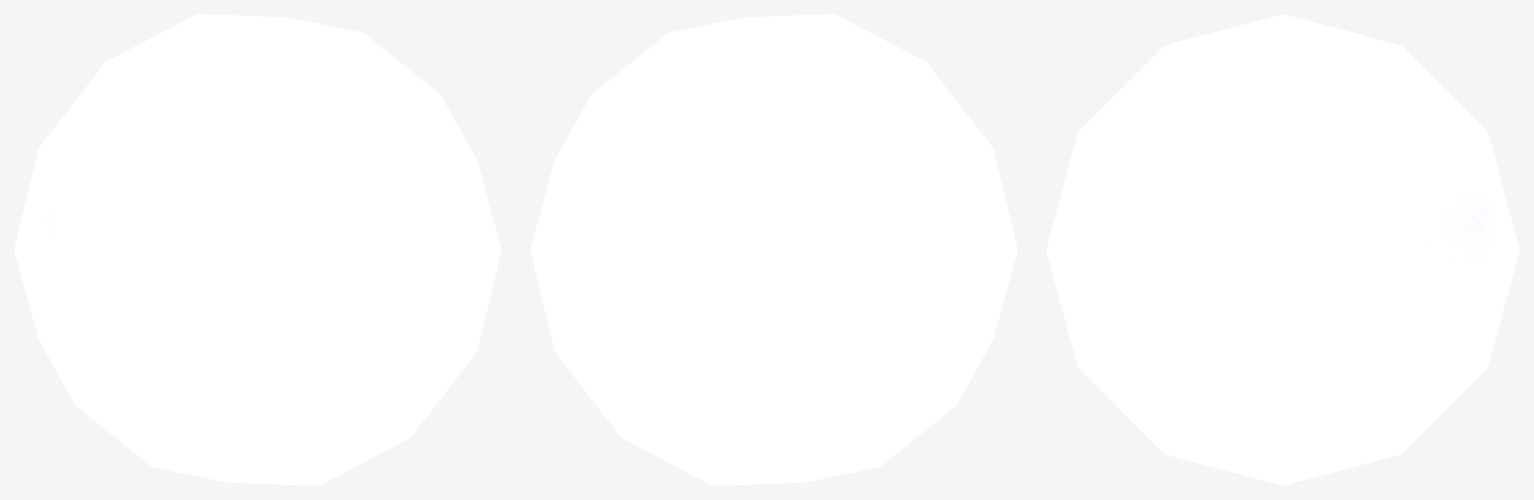
The picture shows the model from 3 angles, left to right: view 1: azimuth 30°, elevation 25°; view 2: azimuth 150°, elevation 25°; view 3: azimuth 270°, elevation 25°; orthographic projection. The views are drawn at different scales.
Parts seen in each view (by area): view 1: test_bg_sphere.3db; view 2: test_bg_sphere.3db; view 3: test_bg_sphere.3db.
Boxes of the visible parts, box(x1,y1,x2,y2) form: test_bg_sphere.3db: box(14, 14, 501, 485); test_bg_sphere.3db: box(530, 14, 1017, 485); test_bg_sphere.3db: box(1046, 14, 1519, 485).
Bounding box in the file's own units: 108 × 108 × 108.
1 material, 1 textured.
